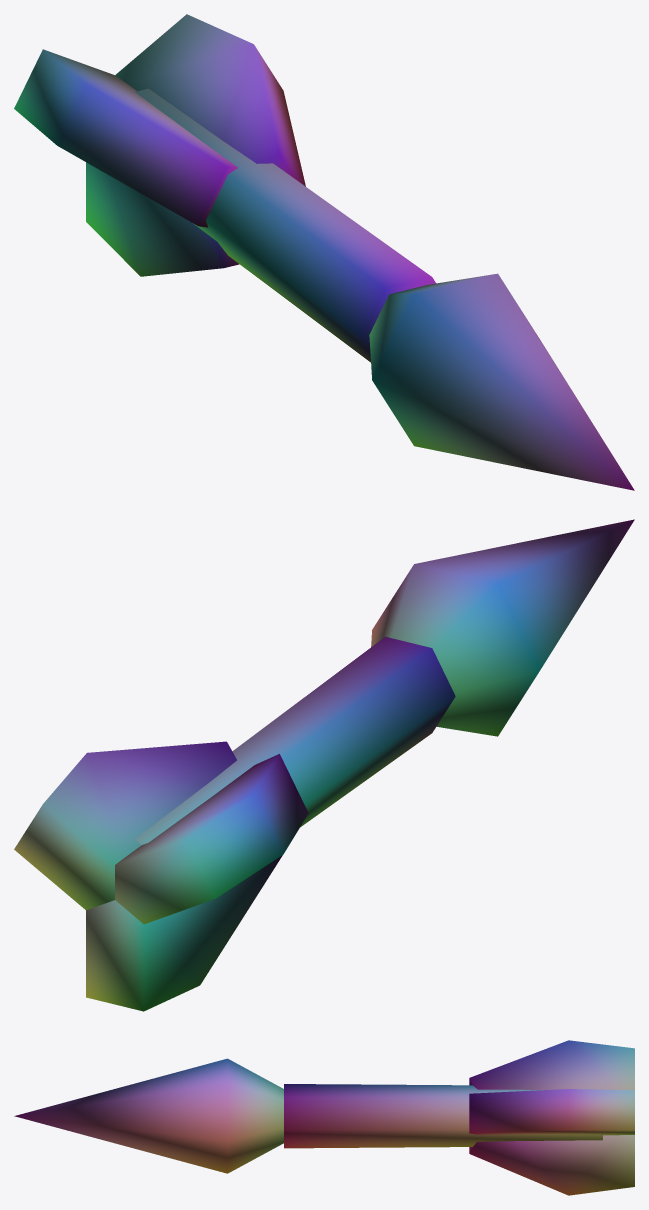
The model's file is SM_FX_IceArrow.fbx.
3 renders of one model, top to bottom at view 1: azimuth 30°, elevation 25°; view 2: azimuth 150°, elevation 25°; view 3: azimuth 270°, elevation 25°, orthographic. The views are drawn at different scales.
Parts seen in each view (by area): view 1: SM_FX_IceArrow; view 2: SM_FX_IceArrow; view 3: SM_FX_IceArrow.
Part boxes in pixels (bbox=[...]): SM_FX_IceArrow: bbox=[14, 14, 634, 490]; SM_FX_IceArrow: bbox=[14, 519, 634, 1011]; SM_FX_IceArrow: bbox=[14, 1040, 634, 1195].
Bounding box in the file's own units: 0.1467 × 0.1271 × 0.5841.
